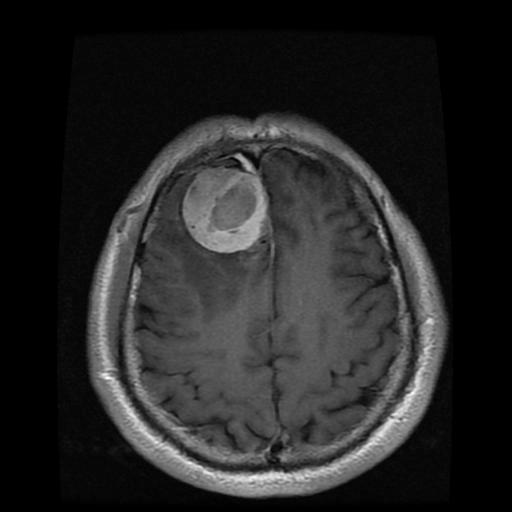Tumour-Meningioma: (168, 159, 287, 261)
